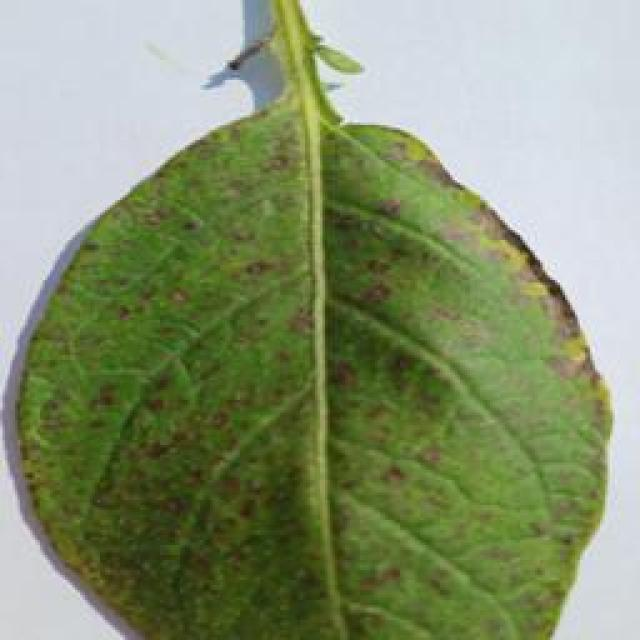Potato_Early_Blight: (7, 108, 640, 640)
